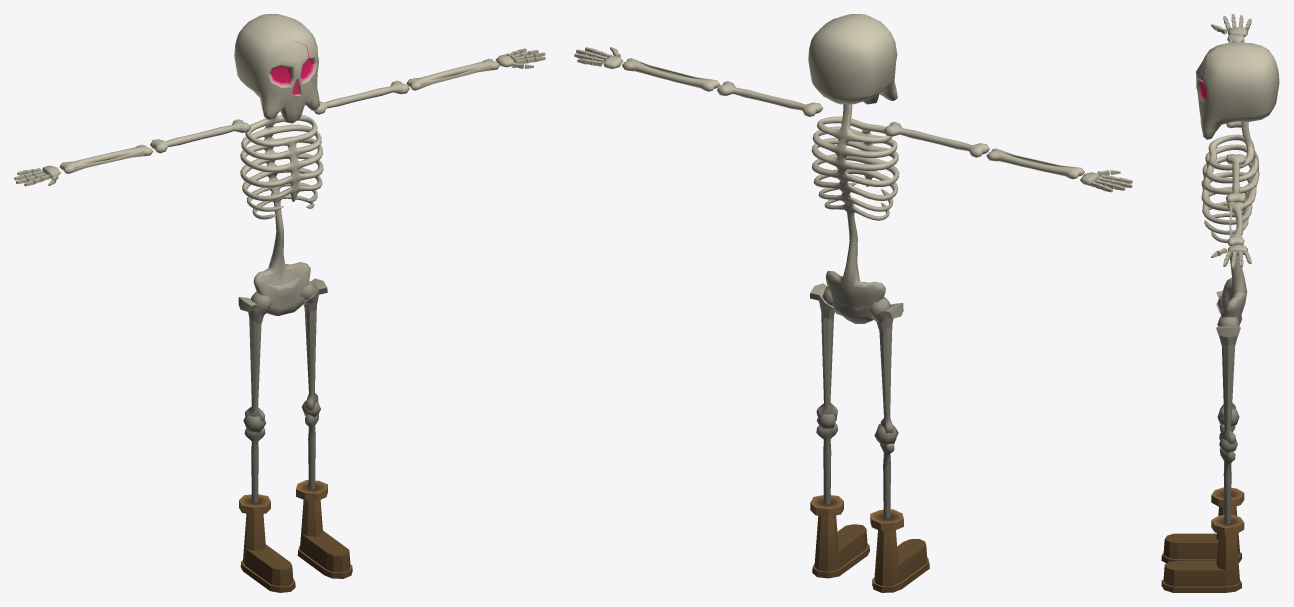
The model's file is Skeleton.fbx.
3 views of the same model, side by side, from view 1: azimuth 30°, elevation 25°; view 2: azimuth 150°, elevation 25°; view 3: azimuth 270°, elevation 25° (orthographic). The views are drawn at different scales.
Parts seen in each view (by area): view 1: skeleton; view 2: skeleton; view 3: skeleton.
Part boxes in pixels (x1=…): skeleton: x1=14, y1=14, x2=545, y2=592; skeleton: x1=574, y1=14, x2=1132, y2=592; skeleton: x1=1161, y1=14, x2=1279, y2=592.
Bounding box in the file's own units: 17.27 × 16.78 × 3.41.
